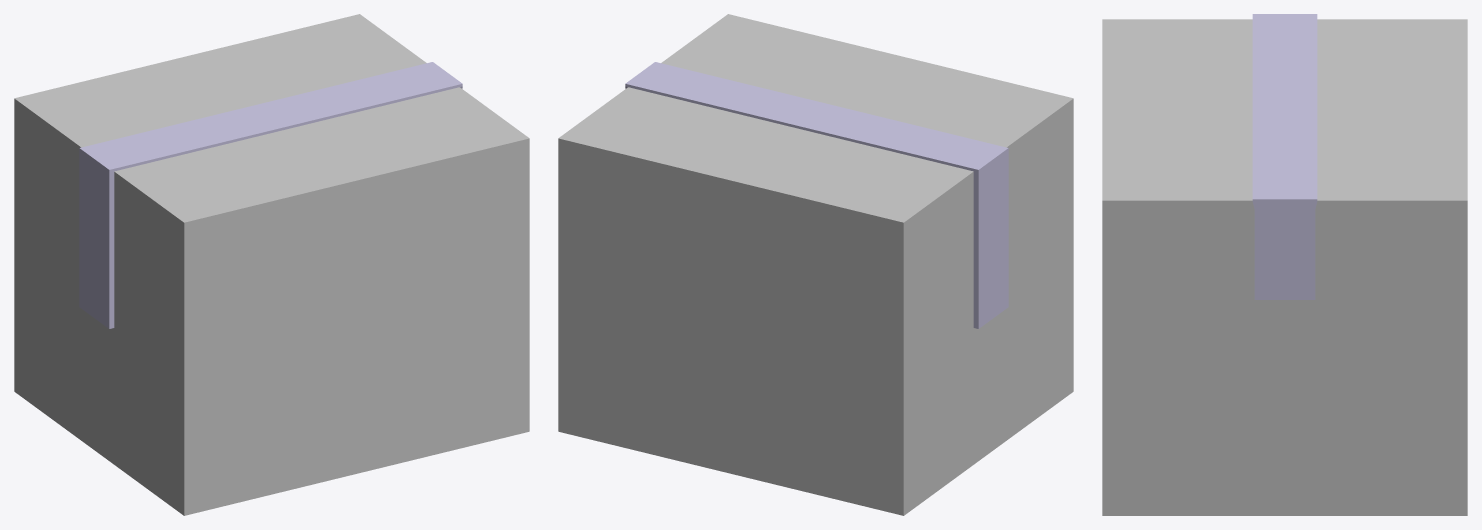
The model's file is BoxProp.fbx.
The picture shows the model from 3 angles, left to right: view 1: azimuth 30°, elevation 25°; view 2: azimuth 150°, elevation 25°; view 3: azimuth 270°, elevation 25°; orthographic projection. The views are drawn at different scales.
Visible parts, largest first — view 1: pCube1; view 2: pCube1; view 3: pCube1.
Boxes of the visible parts, x1=… form: pCube1: x1=14, y1=14, x2=529, y2=515; pCube1: x1=558, y1=14, x2=1073, y2=515; pCube1: x1=1102, y1=14, x2=1467, y2=515.
Bounding box in the file's own units: 1.69 × 1.35 × 1.41.
